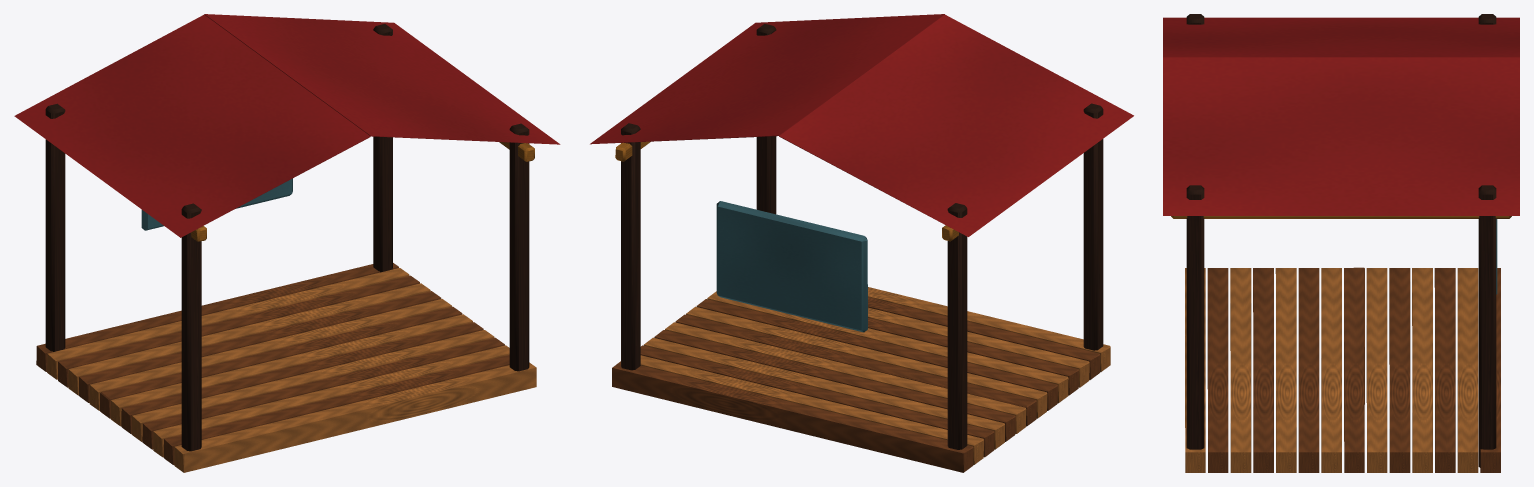
Rendered from Pavilhao_de_eventos_LOD1.fbx.
The picture shows the model from 3 angles, left to right: view 1: azimuth 30°, elevation 25°; view 2: azimuth 150°, elevation 25°; view 3: azimuth 270°, elevation 25°; orthographic projection. The views are drawn at different scales.
Visible parts, largest first — view 1: Pavilhao_de_eventos_LOD1; view 2: Pavilhao_de_eventos_LOD1; view 3: Pavilhao_de_eventos_LOD1.
Part boxes in pixels (box(x1,y1,x2,y2)): Pavilhao_de_eventos_LOD1: box(14, 14, 560, 472); Pavilhao_de_eventos_LOD1: box(590, 14, 1133, 472); Pavilhao_de_eventos_LOD1: box(1163, 14, 1519, 472).
Size of the model in its own units: 580 by 441 by 440.
Materials: 1 (1 with a texture image).
